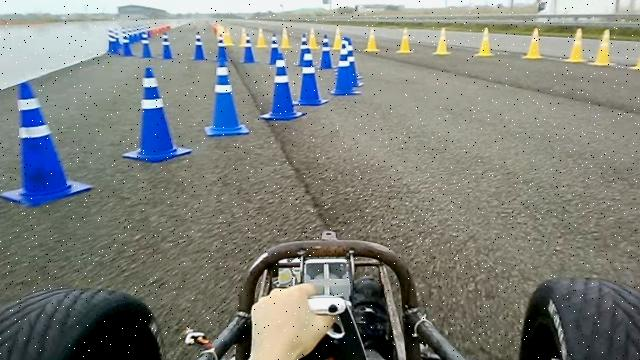blue cone: (0, 80, 93, 207), (121, 66, 192, 162), (204, 55, 249, 136), (259, 58, 306, 121), (292, 51, 330, 106), (329, 43, 362, 96), (342, 36, 364, 87)
yellow cone: (588, 28, 615, 66), (562, 27, 588, 63), (521, 27, 544, 59), (474, 26, 495, 57), (432, 27, 451, 55), (396, 26, 414, 54), (628, 30, 640, 70), (363, 27, 380, 52)
